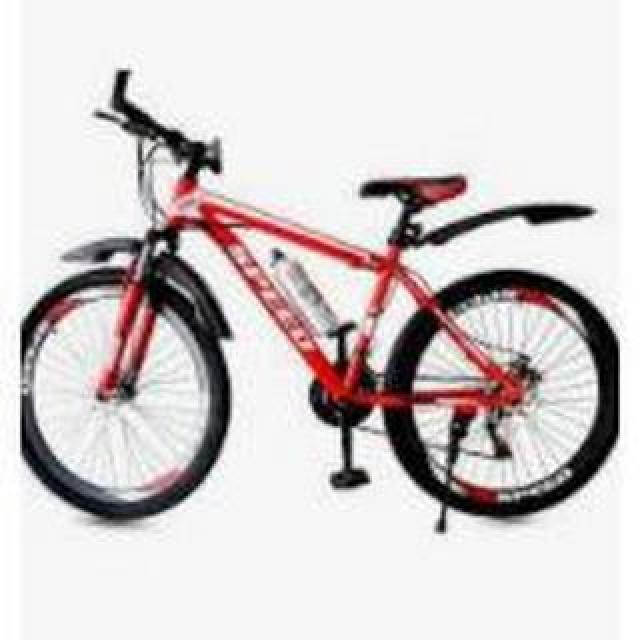Person: (11, 67, 619, 537)
